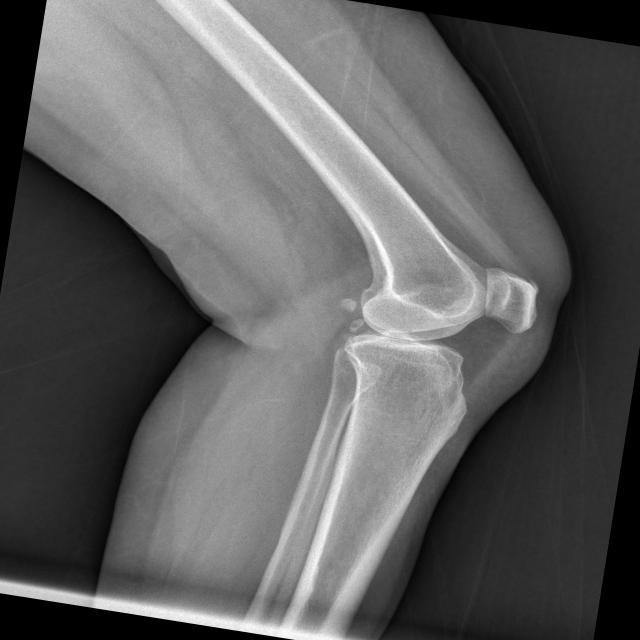Knee: (340, 246, 546, 412)
